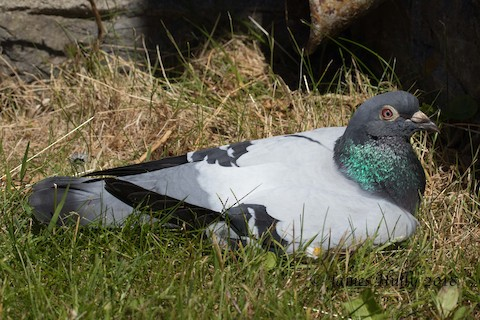pigeon: (19, 84, 440, 271)
